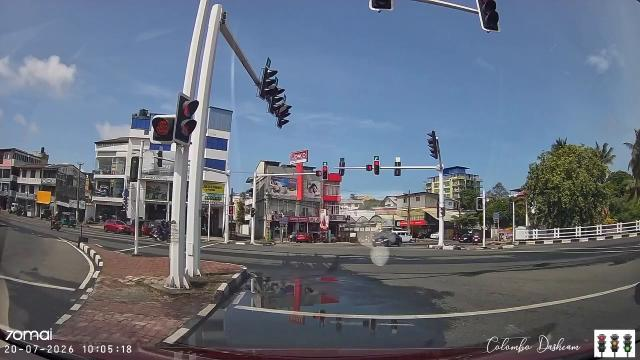traffic light red: (151, 109, 178, 149), (372, 153, 383, 177), (321, 162, 331, 181)
